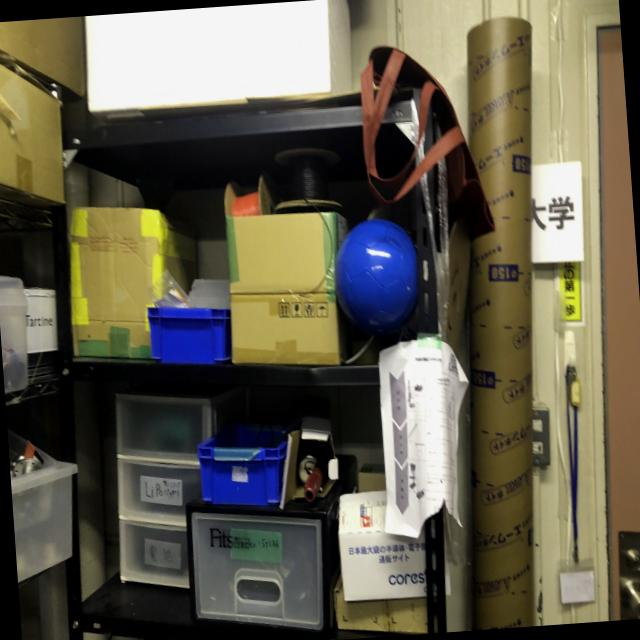blue_ball: (332, 209, 423, 333)
